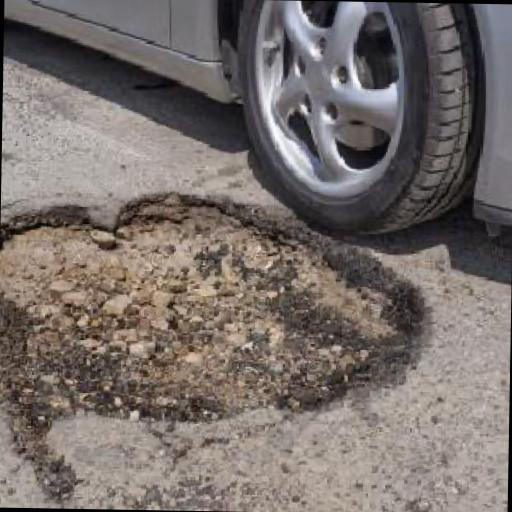pothole: (0, 185, 433, 432)
